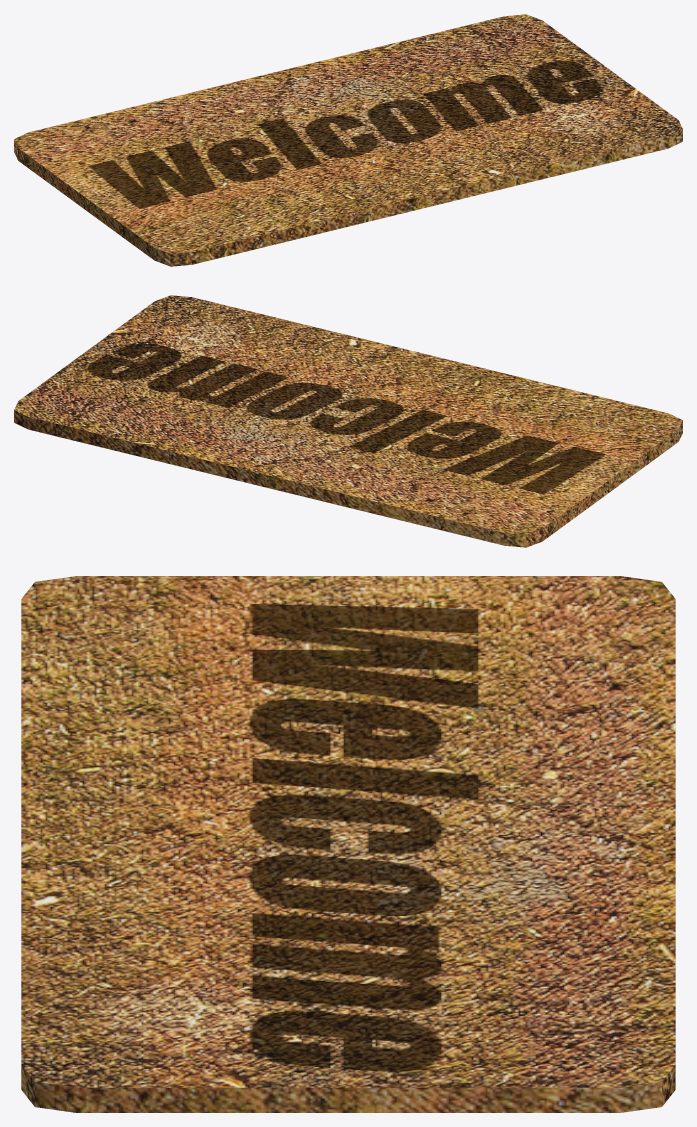
Rendered from bathroom_mat.FBX.
The picture shows the model from 3 angles, top to bottom: view 1: azimuth 30°, elevation 25°; view 2: azimuth 150°, elevation 25°; view 3: azimuth 270°, elevation 25°; orthographic projection. The views are drawn at different scales.
Visible parts, largest first — view 1: WelcomeMat; view 2: WelcomeMat; view 3: WelcomeMat.
Boxes of the visible parts, x1,y1,x2,y2 form: WelcomeMat: (14,14,682,266); WelcomeMat: (14,295,682,547); WelcomeMat: (21,576,675,1112).
Size of the model in its own units: 218 by 5.04 by 118.
1 material, 1 textured.
